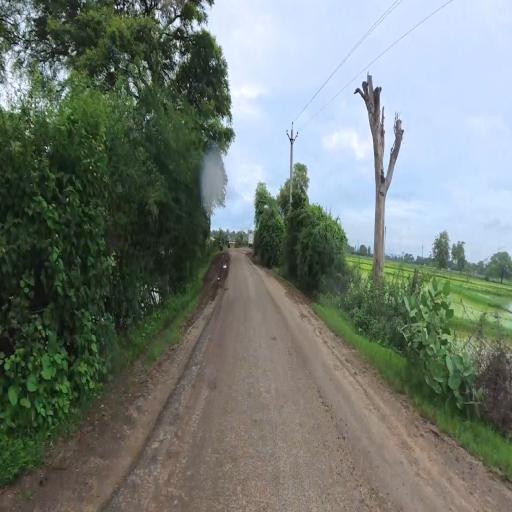ravelling: (104, 395, 220, 512)
